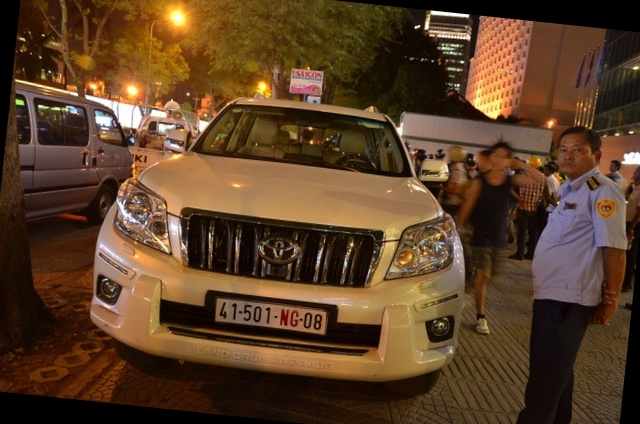plate: (208, 293, 331, 342)
